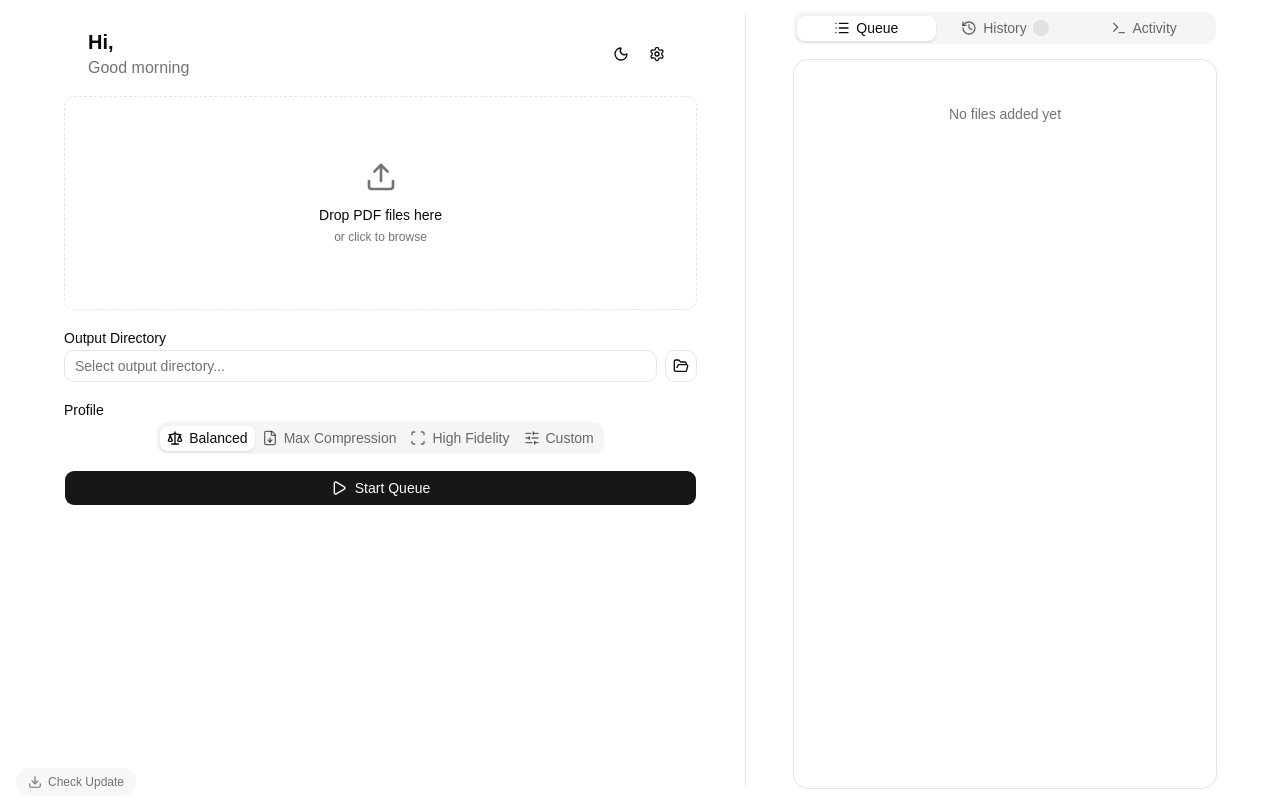
Scenario: App › shows error toast when starting with no files
Click the button "Start Queue": click(380, 488) [64,470,697,506]
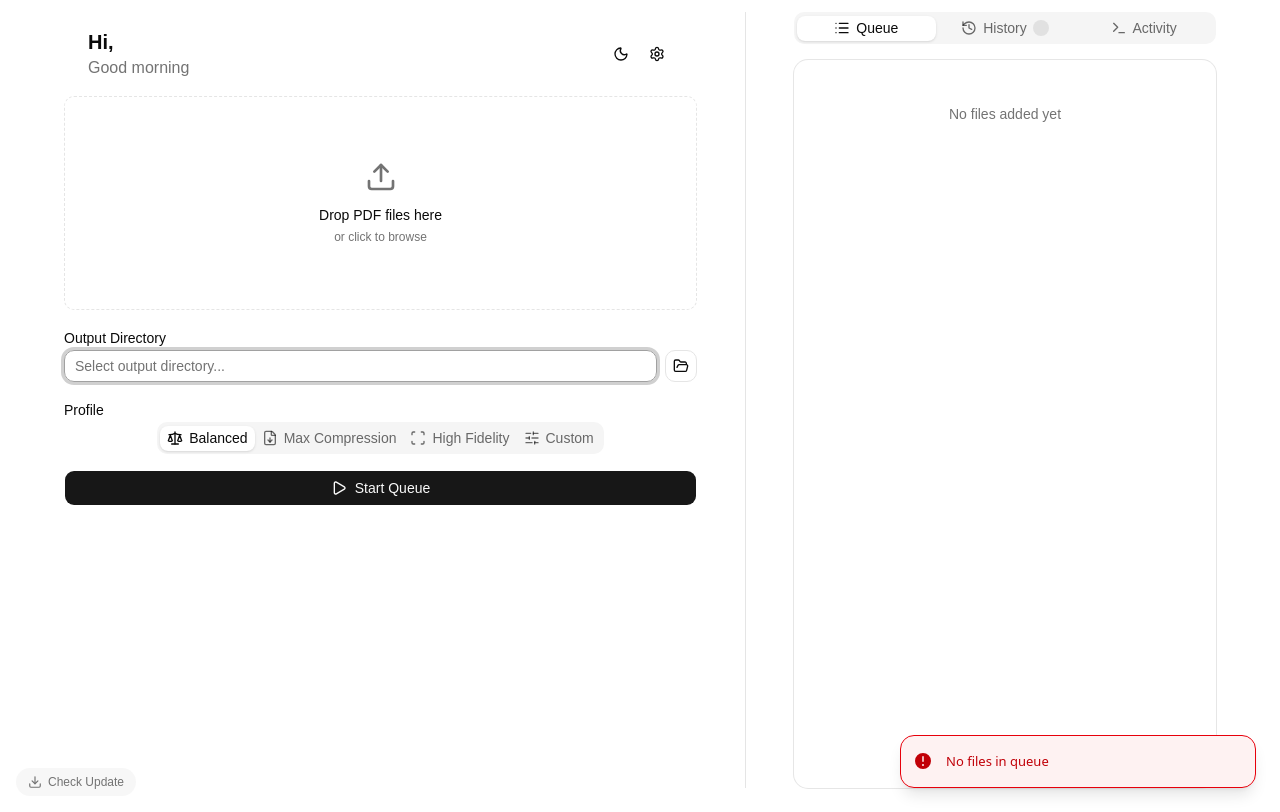
Result: the text "No files in queue" is shown at [946,752,1049,771]
